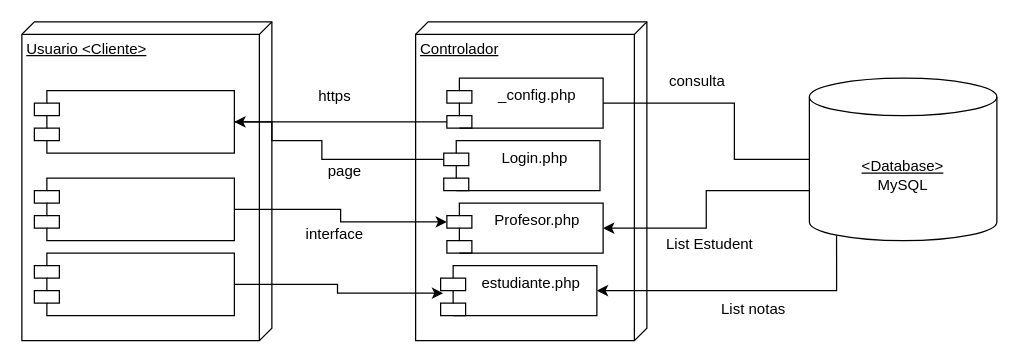
Image size: 1019x363. Some labels were removed from this diagram. Here are the shapes that lost their labels. From the top down, the centre of each, then its label:
point 133,121: <Web Brower> Brave, Opera, Safari
point 133,209: <User Profesor> Brave, Opera, Safari
point 133,284: <User Estudiante> Brave, Opera, Safari
